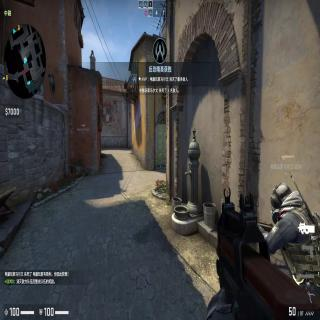CT-Head: (268, 181, 292, 223)
